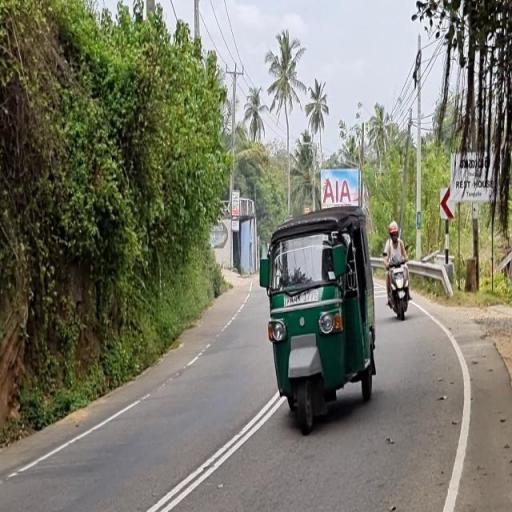double_white_line: (144, 389, 285, 512)
